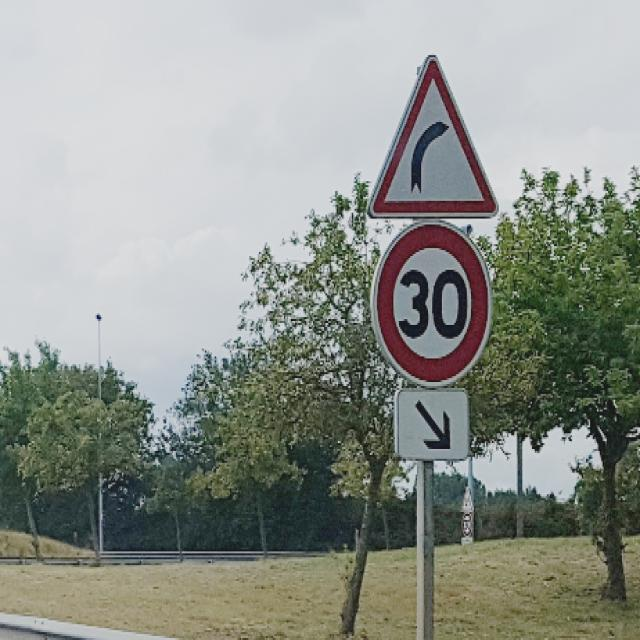speed_30: (374, 222, 493, 387)
